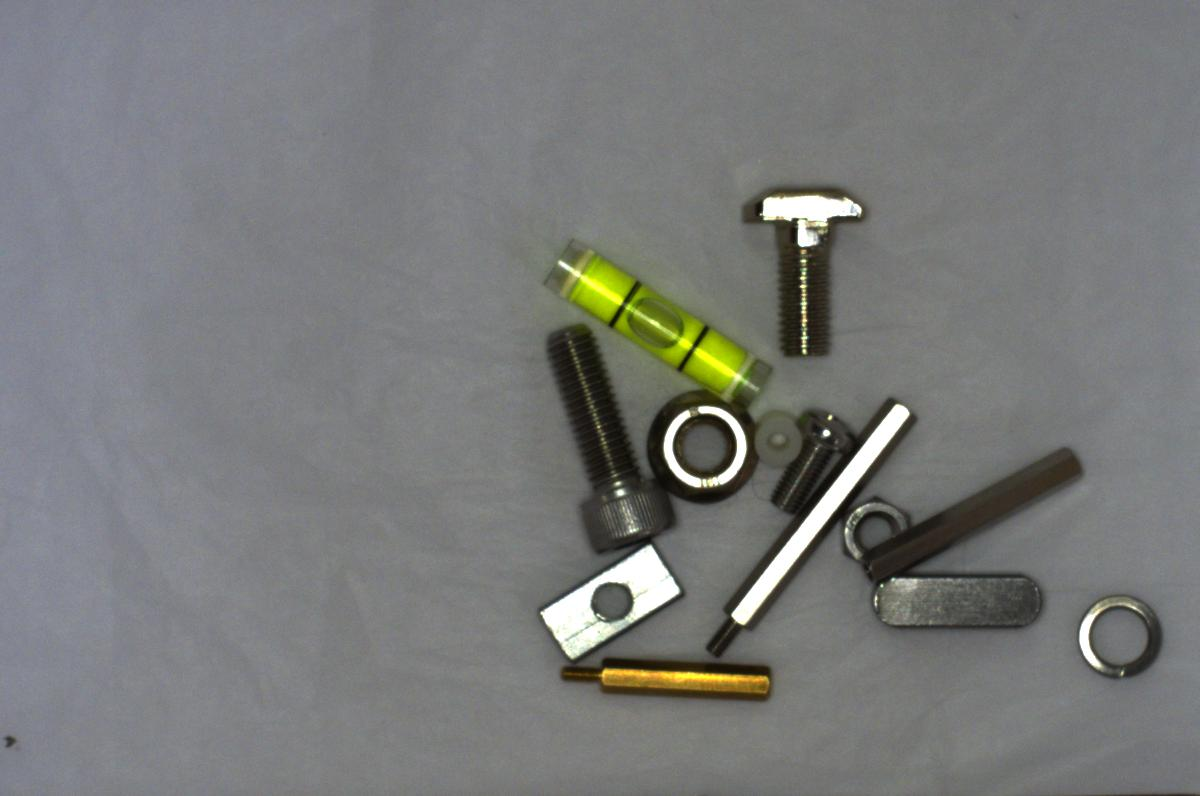Double hexagonal column: (864, 437, 1094, 576)
Flange nut: (635, 378, 757, 504)
Hexagon nut: (844, 494, 911, 568)
Hexagon pillar: (547, 654, 782, 713)
Hexagon screw: (537, 315, 683, 550)
Hexagonal steel column: (697, 399, 924, 660)
Horizontal bubble: (528, 232, 773, 401)
Keybar: (860, 572, 1057, 642)
Plastic cushion pillar: (743, 408, 805, 469)
Rectangular nut: (535, 533, 685, 668)
Round head screw: (766, 404, 851, 508)
Spring washer: (1070, 591, 1164, 687)
T-shaped screw: (741, 164, 871, 367)
